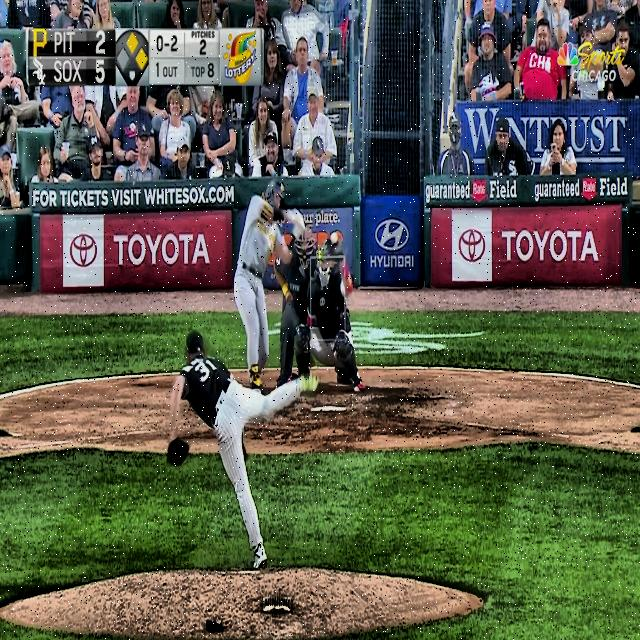baseball: (331, 232, 338, 244)
